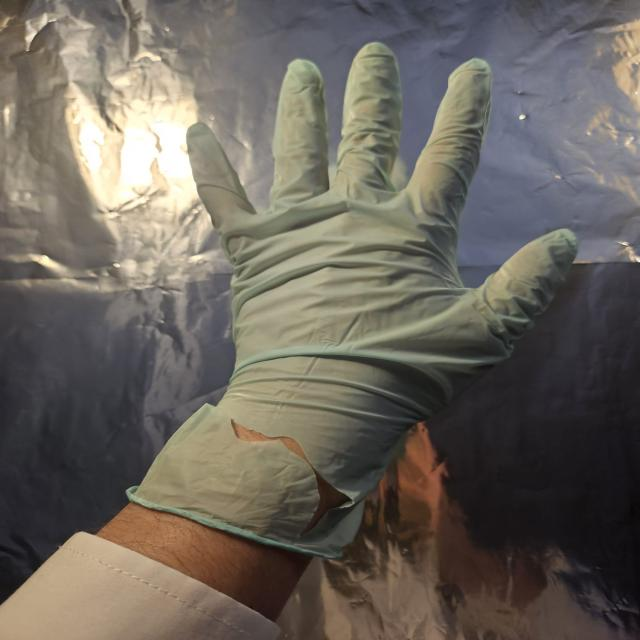gloves_damaged: (126, 42, 582, 550)
